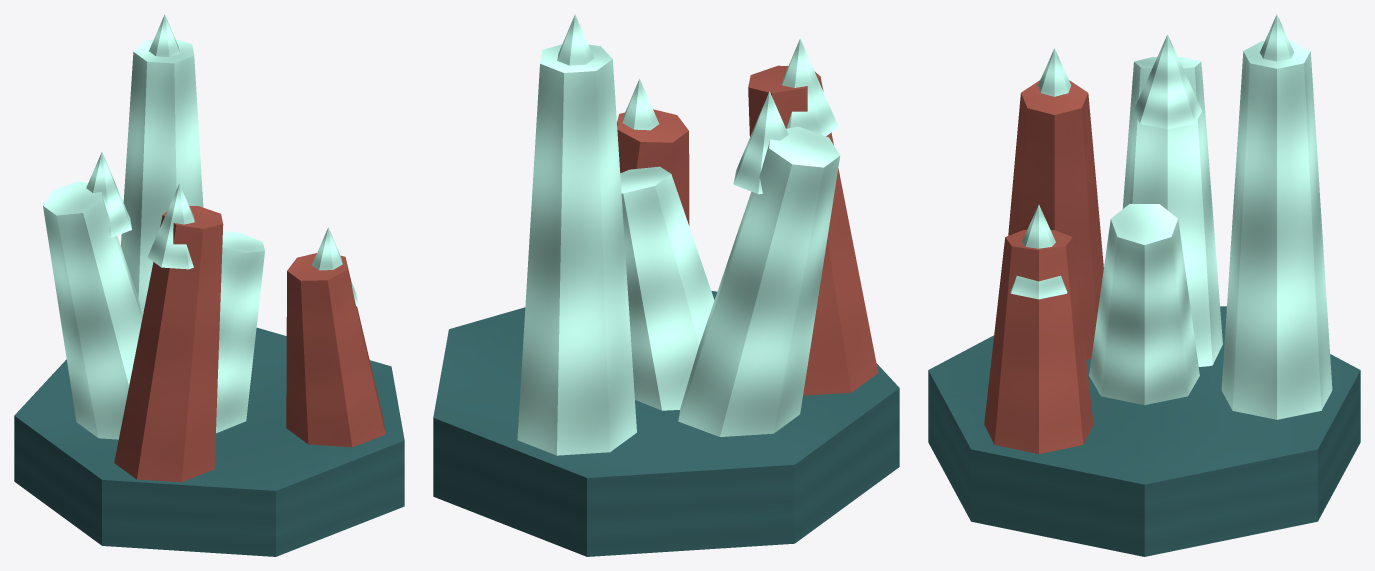
The model's file is atlas100-s035-a04.lod1.glb.
3 views of the same model, side by side, from view 1: azimuth 30°, elevation 25°; view 2: azimuth 150°, elevation 25°; view 3: azimuth 270°, elevation 25° (orthographic). The views are drawn at different scales.
Visible parts, largest first — view 1: atlas100-s035-a04:part-000, atlas100-s035-a04:part-003, atlas100-s035-a04:part-009, atlas100-s035-a04:part-007, atlas100-s035-a04:part-005, atlas100-s035-a04:part-001, atlas100-s035-a04:part-004, atlas100-s035-a04:part-010, atlas100-s035-a04:part-008, atlas100-s035-a04:part-006; view 2: atlas100-s035-a04:part-000, atlas100-s035-a04:part-005, atlas100-s035-a04:part-009, atlas100-s035-a04:part-001, atlas100-s035-a04:part-003, atlas100-s035-a04:part-007, atlas100-s035-a04:part-004, atlas100-s035-a04:part-010, atlas100-s035-a04:part-006, atlas100-s035-a04:part-008; view 3: atlas100-s035-a04:part-000, atlas100-s035-a04:part-005, atlas100-s035-a04:part-007, atlas100-s035-a04:part-001, atlas100-s035-a04:part-003, atlas100-s035-a04:part-009, atlas100-s035-a04:part-010, atlas100-s035-a04:part-008, atlas100-s035-a04:part-004, atlas100-s035-a04:part-006.
Boxes of the visible parts, left/top/right/bottom form: atlas100-s035-a04:part-000: left=14, top=327, right=404, bottom=556; atlas100-s035-a04:part-003: left=114, top=206, right=223, bottom=482; atlas100-s035-a04:part-009: left=43, top=181, right=143, bottom=439; atlas100-s035-a04:part-007: left=286, top=253, right=385, bottom=447; atlas100-s035-a04:part-005: left=121, top=39, right=203, bottom=312; atlas100-s035-a04:part-001: left=216, top=231, right=264, bottom=433; atlas100-s035-a04:part-004: left=147, top=183, right=194, bottom=269; atlas100-s035-a04:part-010: left=86, top=152, right=131, bottom=237; atlas100-s035-a04:part-008: left=312, top=227, right=358, bottom=306; atlas100-s035-a04:part-006: left=149, top=14, right=179, bottom=57; atlas100-s035-a04:part-000: left=433, top=291, right=899, bottom=556; atlas100-s035-a04:part-005: left=517, top=44, right=636, bottom=455; atlas100-s035-a04:part-009: left=678, top=126, right=840, bottom=436; atlas100-s035-a04:part-001: left=620, top=166, right=714, bottom=410; atlas100-s035-a04:part-003: left=748, top=65, right=878, bottom=395; atlas100-s035-a04:part-007: left=617, top=109, right=689, bottom=225; atlas100-s035-a04:part-004: left=782, top=38, right=838, bottom=136; atlas100-s035-a04:part-010: left=733, top=91, right=788, bottom=194; atlas100-s035-a04:part-006: left=557, top=14, right=594, bottom=65; atlas100-s035-a04:part-008: left=622, top=79, right=659, bottom=130; atlas100-s035-a04:part-000: left=928, top=306, right=1360, bottom=556; atlas100-s035-a04:part-005: left=1221, top=41, right=1332, bottom=419; atlas100-s035-a04:part-007: left=984, top=230, right=1093, bottom=453; atlas100-s035-a04:part-001: left=1089, top=204, right=1199, bottom=405; atlas100-s035-a04:part-003: left=1008, top=80, right=1103, bottom=359; atlas100-s035-a04:part-009: left=1122, top=57, right=1222, bottom=366; atlas100-s035-a04:part-010: left=1133, top=34, right=1201, bottom=129; atlas100-s035-a04:part-008: left=1010, top=204, right=1067, bottom=299; atlas100-s035-a04:part-004: left=1038, top=48, right=1071, bottom=96; atlas100-s035-a04:part-006: left=1260, top=14, right=1294, bottom=61.
Bounding box in the file's own units: 1.02 × 1.21 × 1.04.
Materials: 3 (3 with a texture image).
